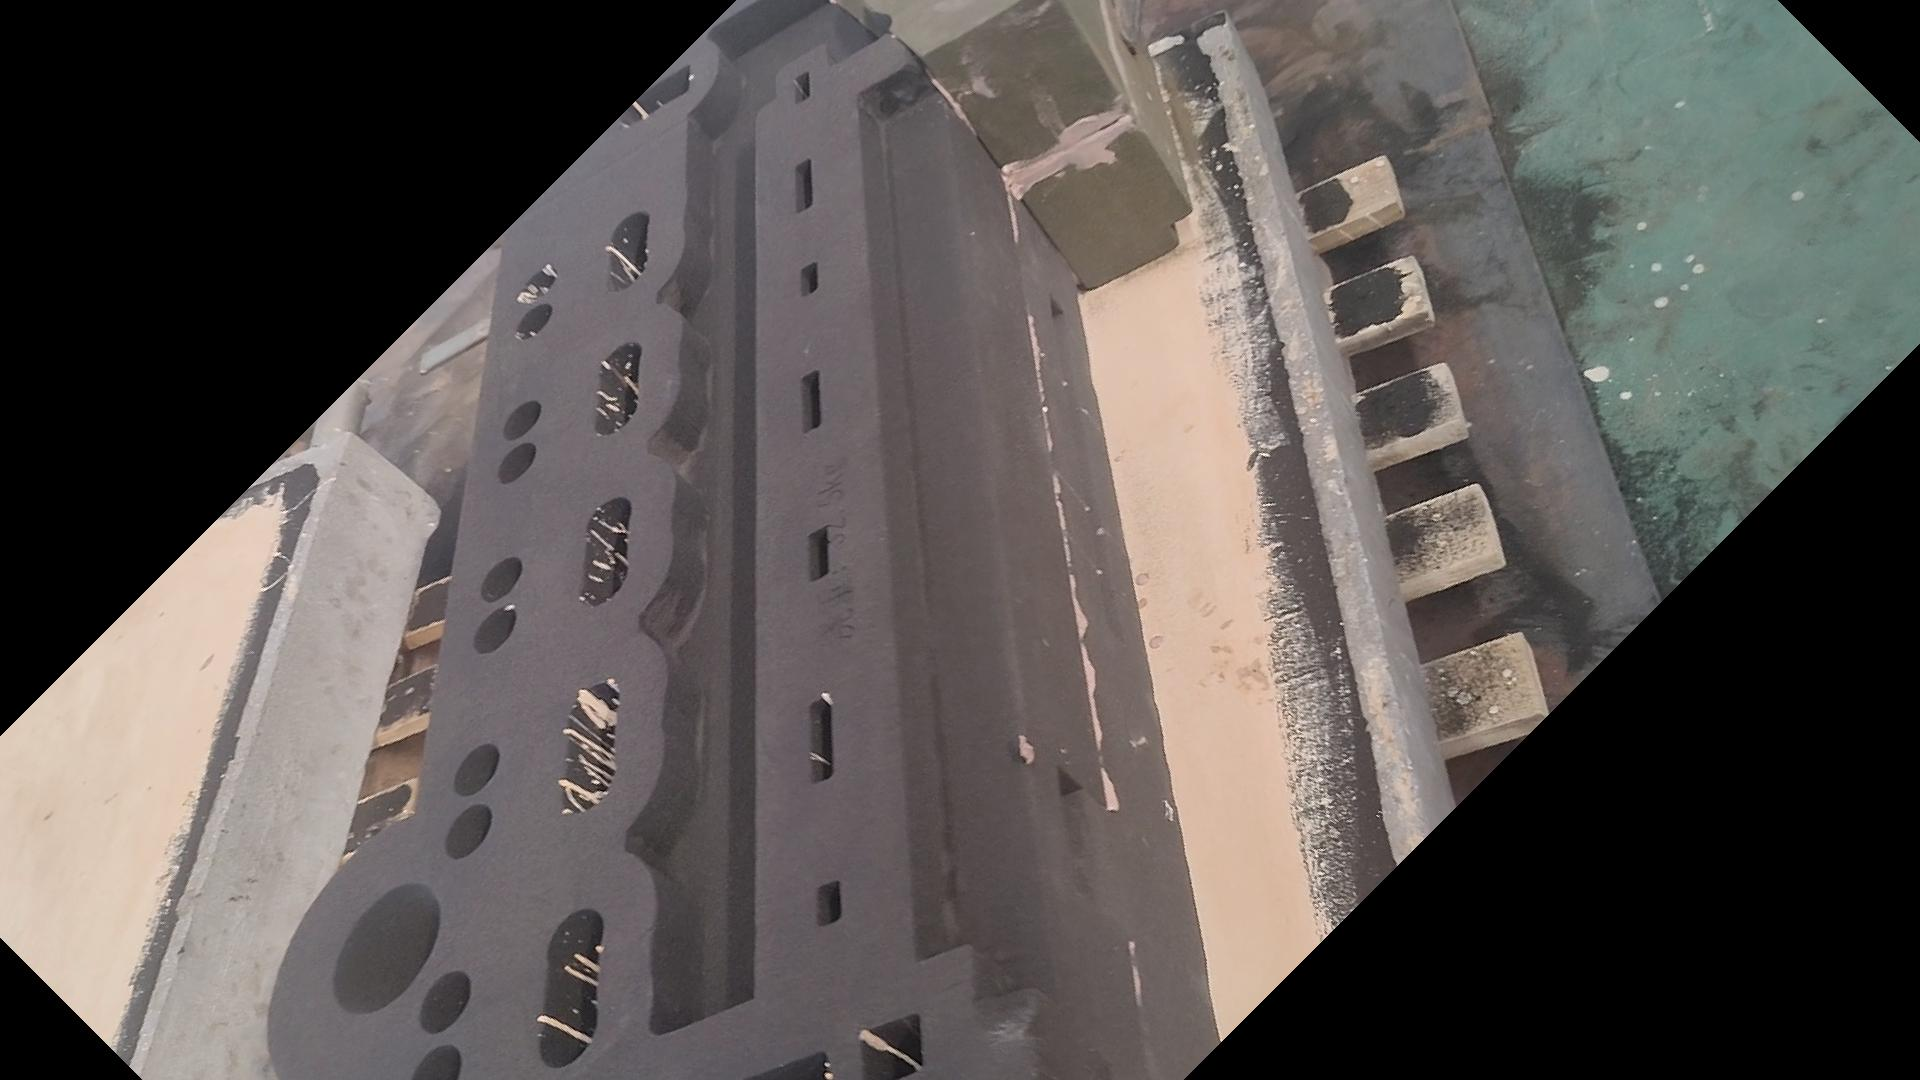pouring hole: (328, 880, 443, 1015)
